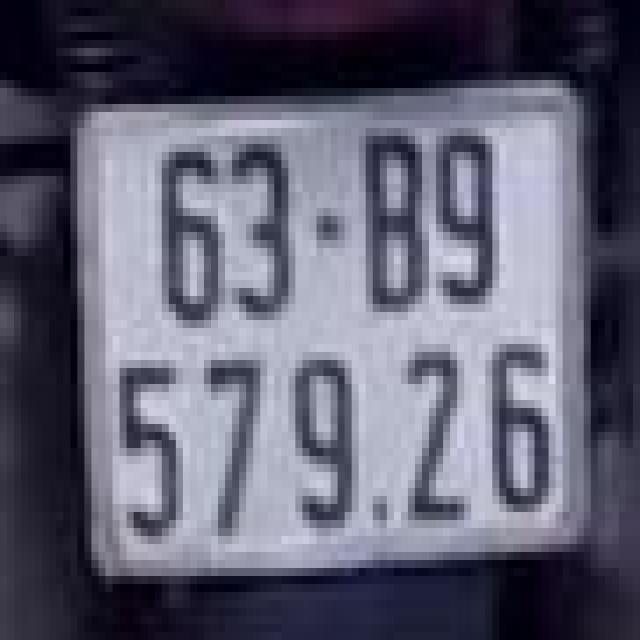2: (390, 340, 475, 532)
3: (225, 132, 295, 324)
5: (105, 356, 190, 556)
6: (475, 324, 566, 532), (148, 140, 232, 332)
7: (197, 348, 274, 548)
9: (281, 348, 366, 532), (429, 124, 506, 316)
B: (355, 124, 440, 324)
